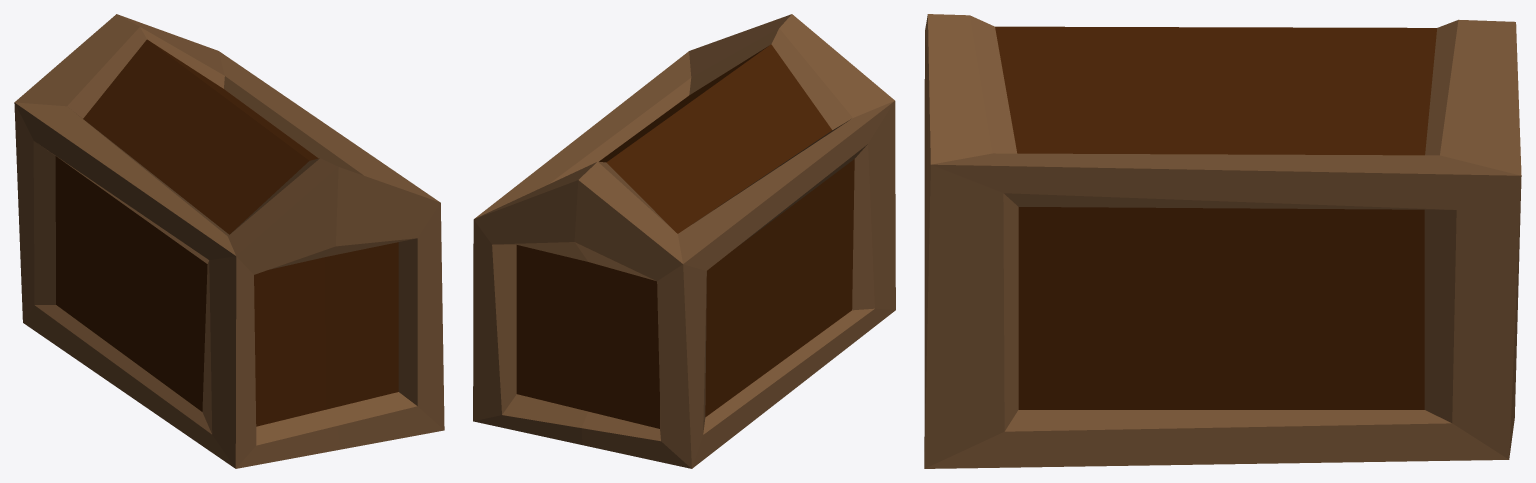
Rendered from PirateChest.fbx.
3 views of the same model, side by side, from view 1: azimuth 30°, elevation 25°; view 2: azimuth 150°, elevation 25°; view 3: azimuth 270°, elevation 25° (orthographic). The views are drawn at different scales.
Parts seen in each view (by area): view 1: SmallChest; view 2: SmallChest; view 3: SmallChest.
Part boxes in pixels (x1,y1,x2,y2): SmallChest: [14, 14, 444, 468]; SmallChest: [473, 14, 895, 468]; SmallChest: [924, 14, 1521, 468].
Size of the model in its own units: 18.51 by 23.62 by 33.08.
